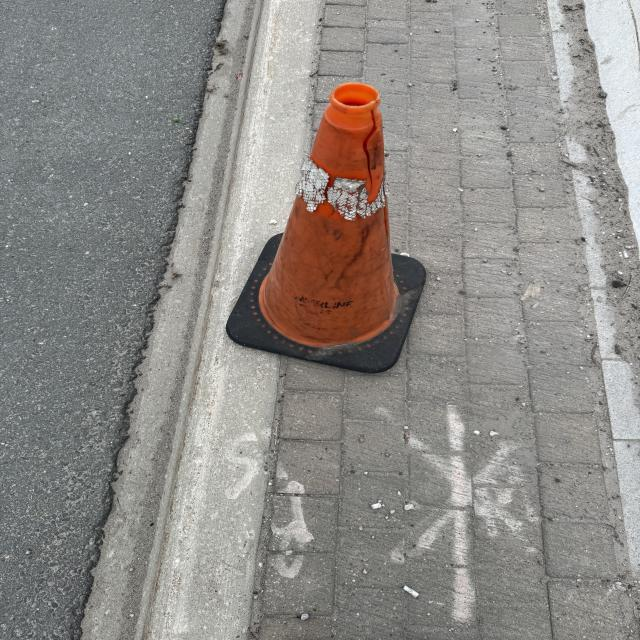Traffic Cone: (224, 81, 432, 372)
